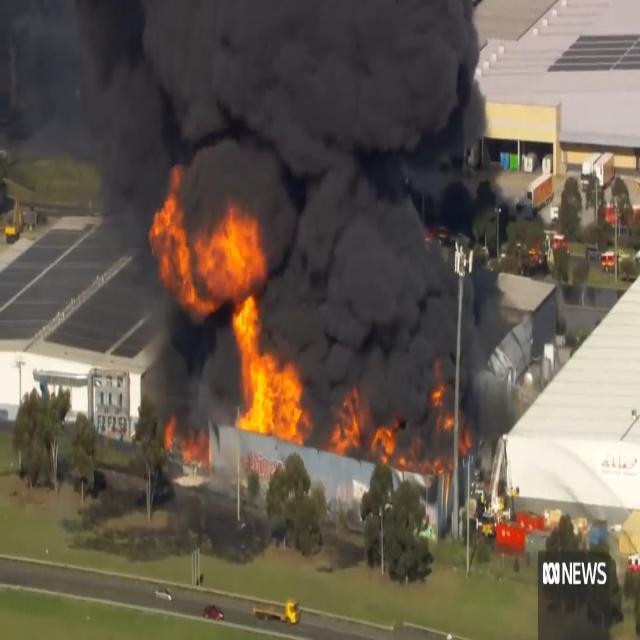fire: (146, 190, 272, 437), (327, 396, 365, 457), (408, 414, 443, 480), (277, 367, 306, 442), (373, 429, 398, 467), (431, 386, 449, 408)
